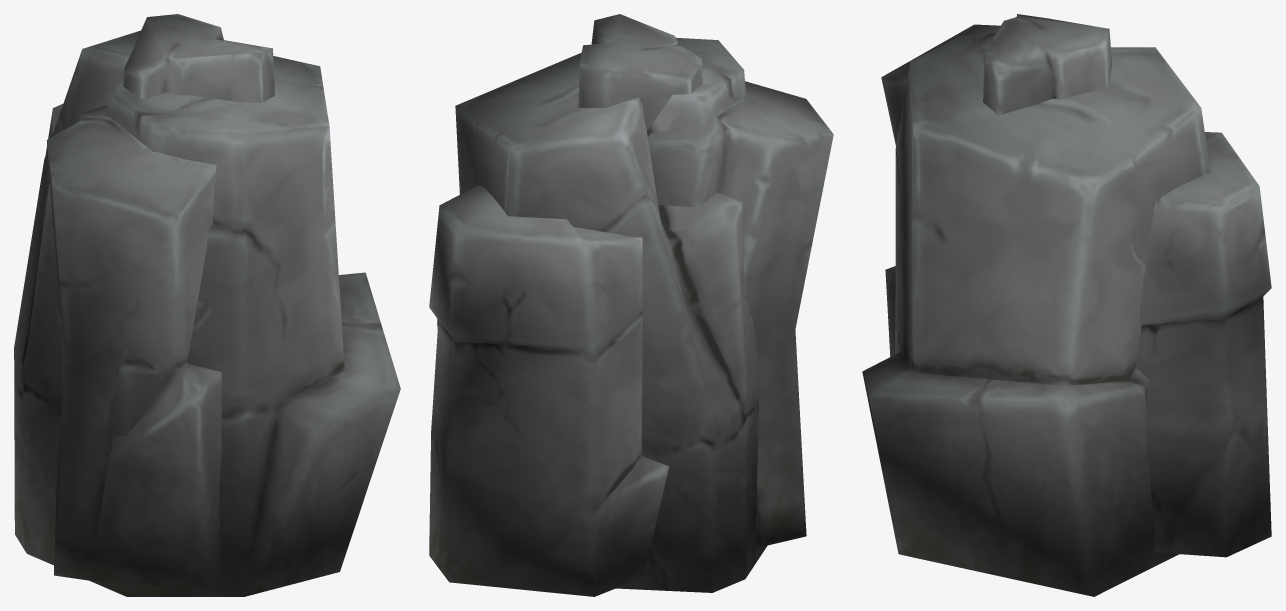
Rendered from Rocks2_Set02.fbx.
3 views of the same model, side by side, from view 1: azimuth 30°, elevation 25°; view 2: azimuth 150°, elevation 25°; view 3: azimuth 270°, elevation 25° (orthographic). The views are drawn at different scales.
Visible parts, largest first — view 1: rock_lp_06_LOD0, rock_lp_09_LOD0, rock_lp_10_LOD0; view 2: rock_lp_07_LOD0, rock_lp_06_LOD0, rock_lp_09_LOD0, rock_lp_10_LOD0; view 3: rock_lp_06_LOD0, rock_lp_07_LOD0, rock_lp_10_LOD0, rock_lp_09_LOD0.
Part boxes in pixels (bbox=[...]): rock_lp_06_LOD0: bbox=[14, 30, 400, 596]; rock_lp_09_LOD0: bbox=[47, 105, 221, 588]; rock_lp_10_LOD0: bbox=[123, 14, 274, 102]; rock_lp_07_LOD0: bbox=[429, 184, 669, 596]; rock_lp_06_LOD0: bbox=[437, 37, 767, 592]; rock_lp_09_LOD0: bbox=[648, 81, 833, 547]; rock_lp_10_LOD0: bbox=[578, 14, 703, 130]; rock_lp_06_LOD0: bbox=[862, 33, 1210, 596]; rock_lp_07_LOD0: bbox=[1135, 132, 1271, 557]; rock_lp_10_LOD0: bbox=[983, 14, 1111, 115]; rock_lp_09_LOD0: bbox=[881, 24, 1000, 356].
Size of what is drawn, in the model's own units: 2.08 by 2.75 by 2.1.
